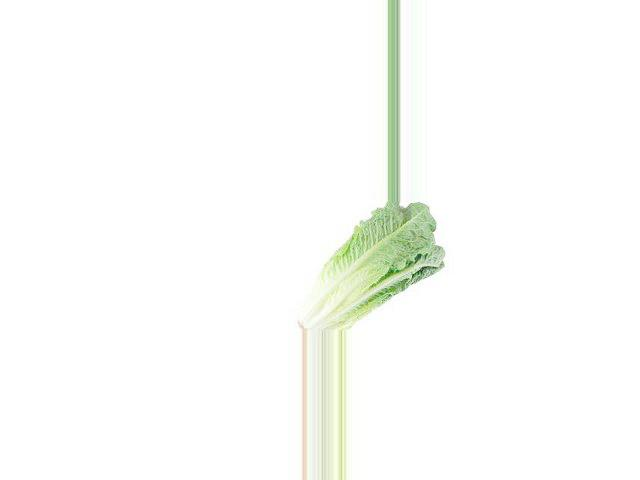lettuce: (288, 202, 443, 331)
